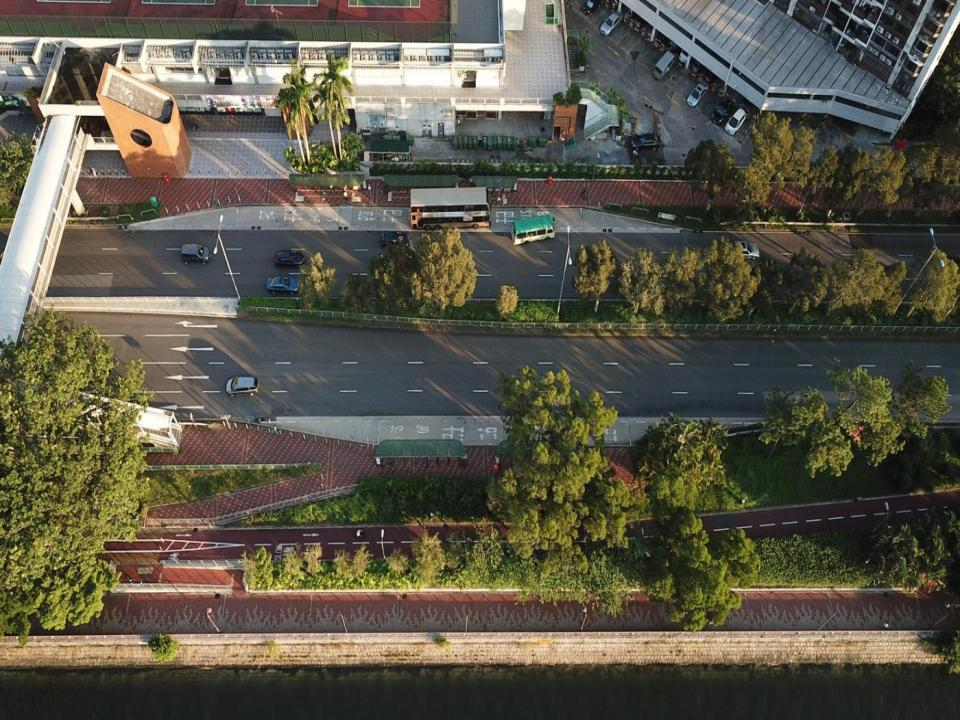bus: (409, 188, 491, 230)
car: (723, 241, 760, 260), (686, 79, 709, 109), (266, 276, 300, 295), (226, 376, 259, 395), (181, 244, 211, 264), (724, 109, 745, 136), (381, 229, 410, 248), (601, 10, 622, 36), (274, 249, 304, 267), (712, 98, 732, 124), (631, 133, 660, 147), (584, 0, 602, 16), (667, 37, 681, 53), (679, 45, 693, 60)
truck: (511, 216, 555, 246)
van: (653, 50, 676, 80)
